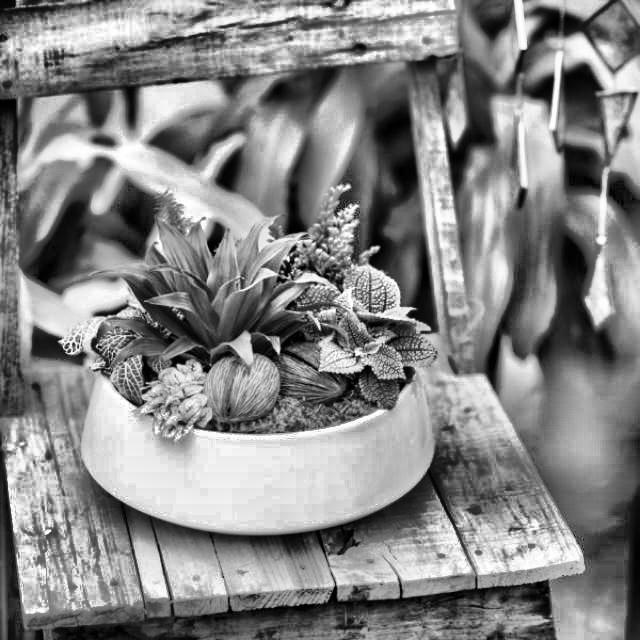plants: (78, 206, 448, 524)
